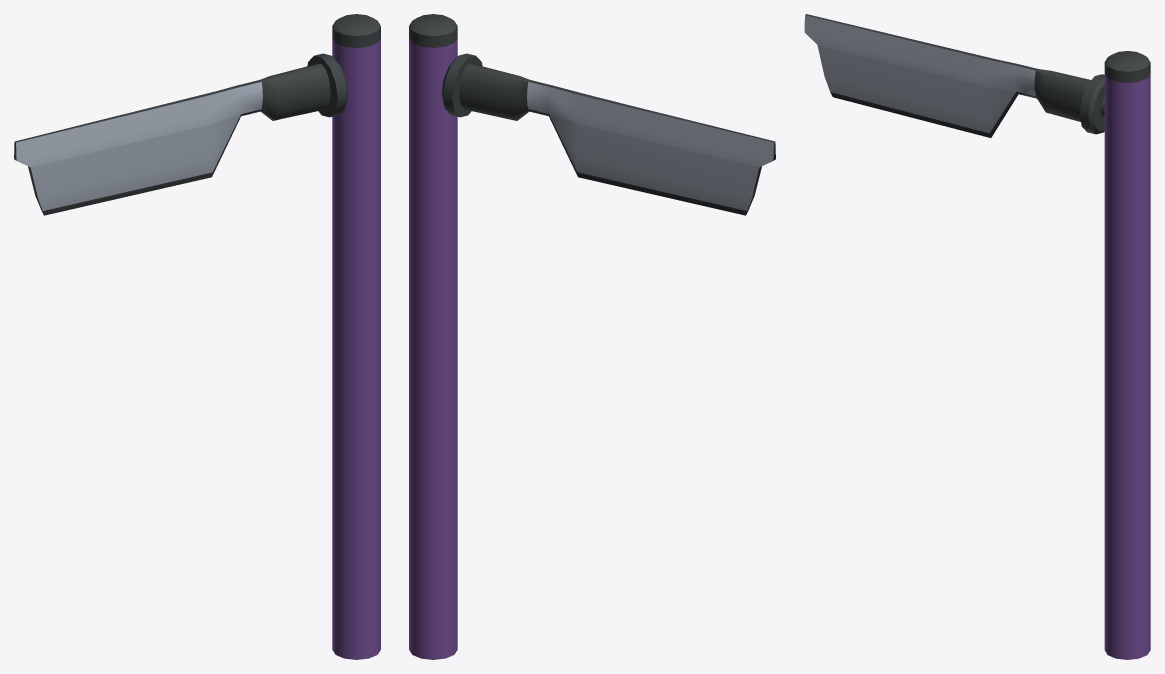
File: SM_Blade_Obstacles.fbx
3 views of the same model, side by side, from view 1: azimuth 30°, elevation 25°; view 2: azimuth 150°, elevation 25°; view 3: azimuth 330°, elevation 25° (orthographic). The views are drawn at different scales.
Parts seen in each view (by area): view 1: Body, Blade; view 2: Body, Blade; view 3: Body, Blade.
Part boxes in pixels (left/top/right/bottom): Body: left=332, top=14, right=380, bottom=659; Blade: left=14, top=53, right=348, bottom=215; Body: left=409, top=14, right=457, bottom=659; Blade: left=441, top=53, right=775, bottom=215; Body: left=1104, top=51, right=1150, bottom=659; Blade: left=804, top=14, right=1104, bottom=137.
Bounding box in the file's own units: 488 × 808 × 74.29.
